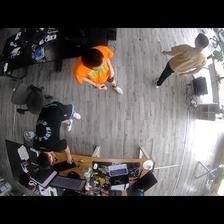normal: (154, 31, 209, 90), (34, 100, 82, 167), (73, 44, 123, 98)
